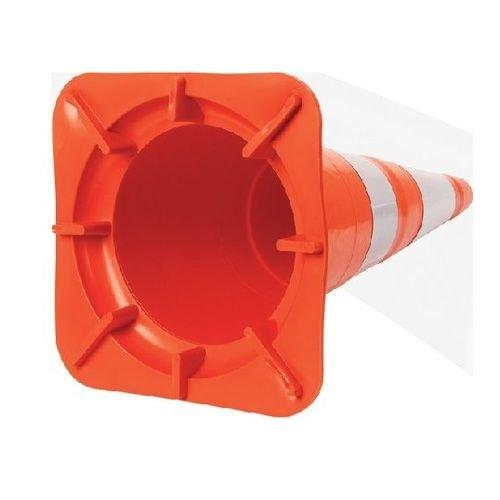traffic_cone: (51, 71, 473, 418)
